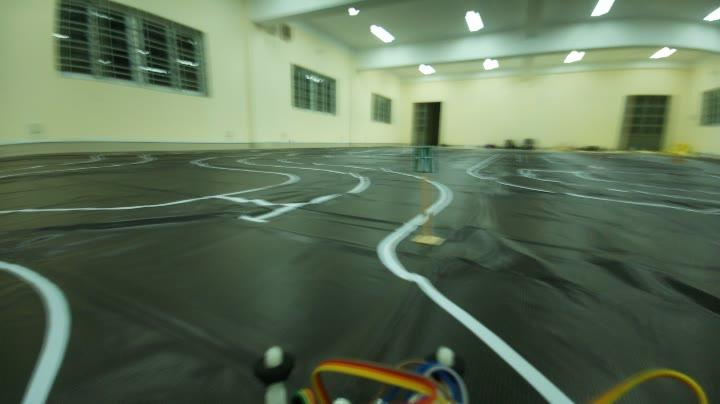highway_entry: (406, 140, 441, 184)
